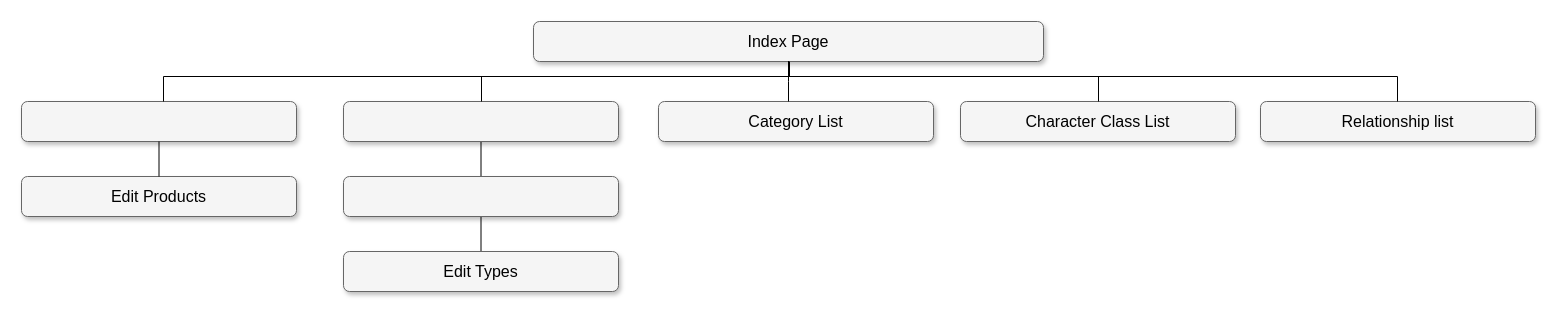
Some shapes in this 1559 by 316 pixel diagram are drawn without their labels. Each missing label, with the centre of its shape:
Product Details: [159,122]
Type Details: [481,198]
Type List: [481,122]
